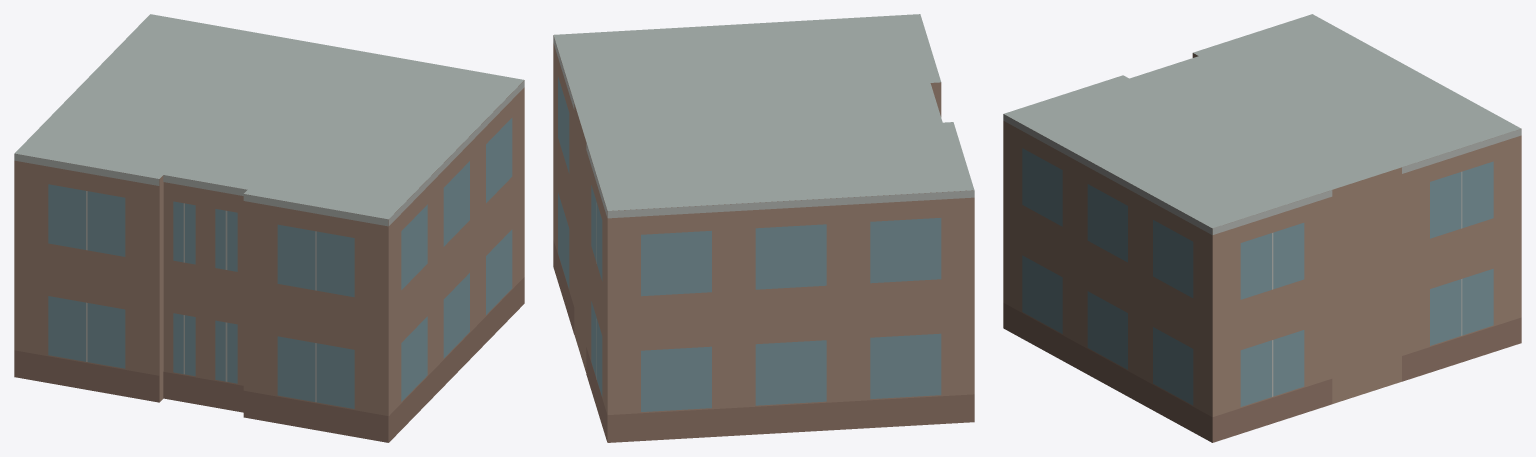
The model's file is survey-upis-32747178.glb.
The picture shows the model from 3 angles, left to right: view 1: azimuth 30°, elevation 25°; view 2: azimuth 150°, elevation 25°; view 3: azimuth 270°, elevation 25°; orthographic projection. The views are drawn at different scales.
Parts seen in each view (by area): view 1: survey-upis-32747178.tmp; view 2: survey-upis-32747178.tmp; view 3: survey-upis-32747178.tmp.
Boxes of the visible parts, x1=… form: survey-upis-32747178.tmp: x1=14, y1=14, x2=524, y2=442; survey-upis-32747178.tmp: x1=553, y1=14, x2=974, y2=442; survey-upis-32747178.tmp: x1=1003, y1=14, x2=1521, y2=442.
Size of the model in its own units: 16.52 by 7.7 by 16.87.
